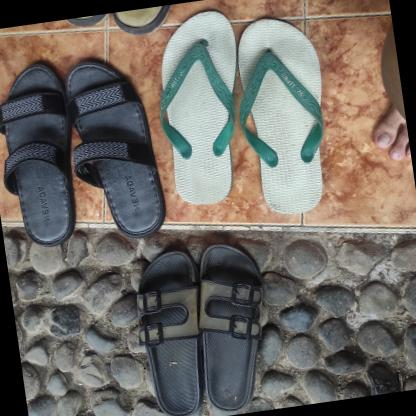Black Slide A: (183, 235, 281, 414), (124, 242, 215, 416)
Black Slide B: (57, 50, 167, 244), (0, 55, 85, 252)
Green Swallow: (224, 8, 340, 222), (146, 4, 256, 210)
